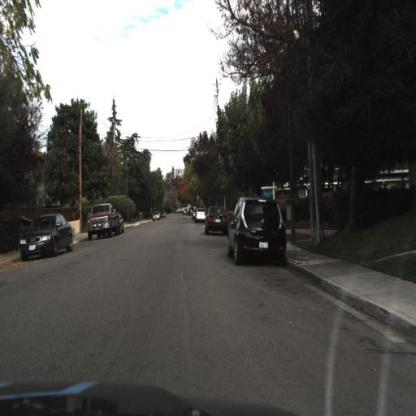car: (226, 188, 294, 274), (17, 208, 79, 264), (83, 198, 117, 245), (203, 201, 230, 242), (193, 205, 208, 227)
